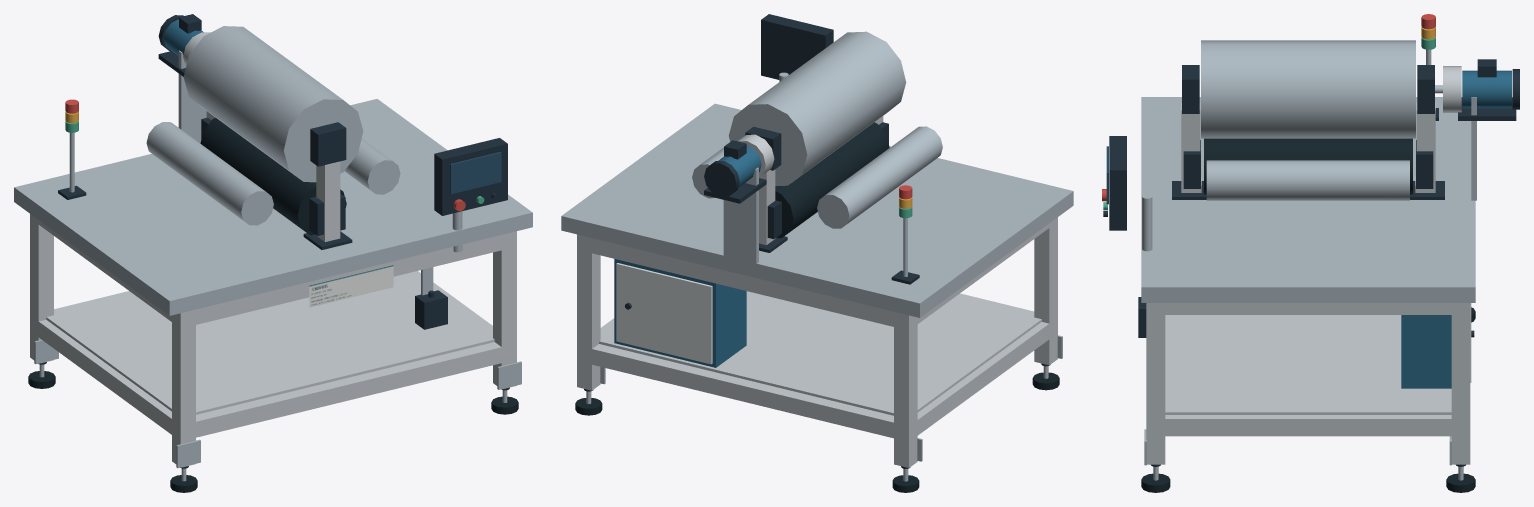
File: plate-rolling-cell.glb
3 views of the same model, side by side, from view 1: azimuth 30°, elevation 25°; view 2: azimuth 150°, elevation 25°; view 3: azimuth 270°, elevation 25° (orthographic). The views are drawn at different scales.
Parts seen in each view (by area): view 1: ClosedMachineBed_28, LowerShelf_29, WorkingCylinder_48, SlottedExtrusion_22, FormingRoll_70, CounterRoll_63, SlottedExtrusion_23, SlottedExtrusion_24, SlottedExtrusion_8, ConsoleBack_34, SlottedExtrusion_18, SlottedExtrusion_3 (+12 smaller); view 2: ClosedMachineBed_28, LowerShelf_29, WorkingCylinder_48, BackDoor_31, SlottedExtrusion_20, FormingRoll_70, SlottedExtrusion_21, CounterRoll_63, SlottedExtrusion_3, Cabinet_30, ConsoleBack_34, SlottedExtrusion_13 (+10 smaller); view 3: ClosedMachineBed_28, LowerShelf_29, WorkingCylinder_48, FormingRoll_71, SlottedExtrusion_26, CounterRoll_63, Cabinet_30, SlottedExtrusion_27, SlottedExtrusion_13, SlottedExtrusion_18, MotorBody_56, ConsoleBack_34 (+12 smaller).
Part boxes in pixels (<box>): ClosedMachineBed_28: <box>14,99,532,315</box>; LowerShelf_29: <box>46,272,494,414</box>; WorkingCylinder_48: <box>183,26,363,182</box>; SlottedExtrusion_22: <box>188,342,503,438</box>; FormingRoll_70: <box>146,122,273,225</box>; CounterRoll_63: <box>200,117,346,235</box>; SlottedExtrusion_23: <box>188,233,509,326</box>; SlottedExtrusion_24: <box>34,319,176,437</box>; SlottedExtrusion_8: <box>172,310,195,467</box>; ConsoleBack_34: <box>434,138,507,215</box>; SlottedExtrusion_18: <box>493,231,516,389</box>; SlottedExtrusion_3: <box>30,214,53,363</box>; ClosedMachineBed_28: <box>561,103,1073,317</box>; LowerShelf_29: <box>599,291,1041,415</box>; WorkingCylinder_48: <box>728,31,906,186</box>; BackDoor_31: <box>616,263,712,364</box>; SlottedExtrusion_20: <box>584,344,901,438</box>; FormingRoll_70: <box>817,126,942,228</box>; SlottedExtrusion_21: <box>584,236,901,328</box>; CounterRoll_63: <box>775,122,889,238</box>; SlottedExtrusion_3: <box>894,312,917,467</box>; Cabinet_30: <box>614,259,746,367</box>; ConsoleBack_34: <box>761,14,833,79</box>; SlottedExtrusion_13: <box>577,234,600,390</box>; ClosedMachineBed_28: <box>1141,97,1475,302</box>; LowerShelf_29: <box>1165,315,1451,414</box>; WorkingCylinder_48: <box>1201,40,1415,138</box>; FormingRoll_71: <box>1206,160,1409,200</box>; SlottedExtrusion_26: <box>1156,415,1460,436</box>; CounterRoll_63: <box>1204,138,1412,194</box>; Cabinet_30: <box>1401,315,1451,388</box>; SlottedExtrusion_27: <box>1156,303,1460,314</box>; SlottedExtrusion_13: <box>1451,303,1470,464</box>; SlottedExtrusion_18: <box>1146,303,1165,464</box>; MotorBody_56: <box>1462,70,1511,108</box>; ConsoleBack_34: <box>1109,136,1126,230</box>.
Bounding box in the file's own units: 1.55 × 1.36 × 1.44.
11 materials, 1 textured.
